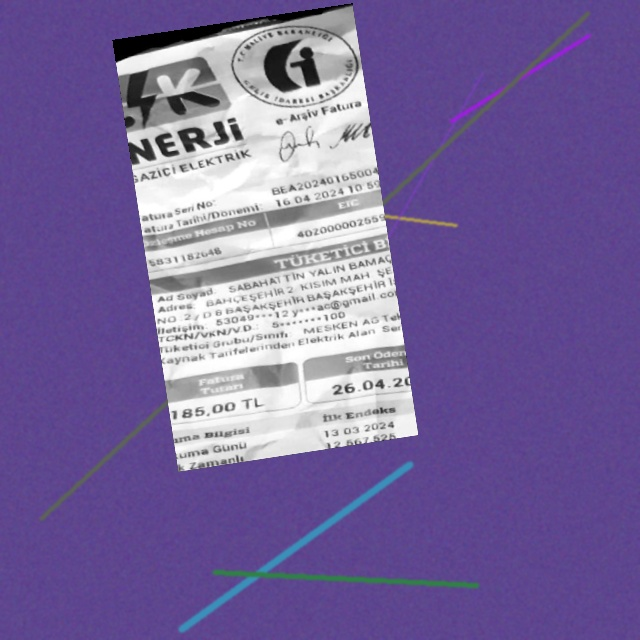electricity-bill: (111, 2, 417, 471)
